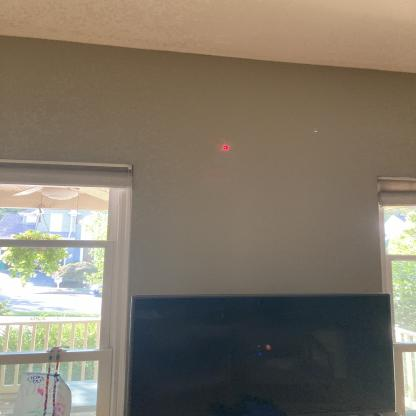target: (221, 143, 230, 155)
